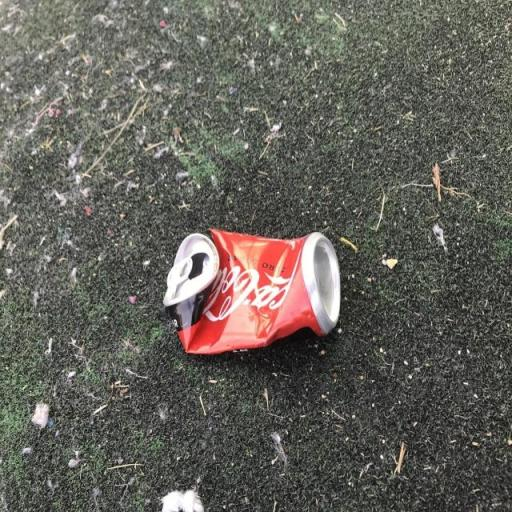metal: (152, 194, 361, 380)
